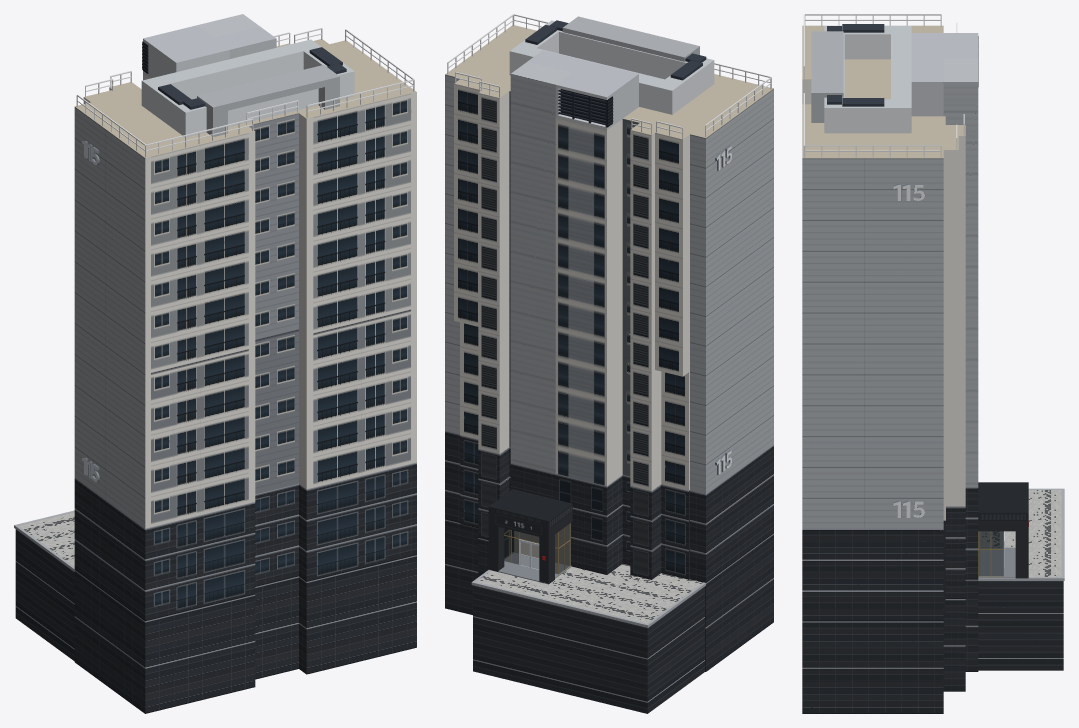
The model's file is place_금파힐115.glb.
The picture shows the model from 3 angles, left to right: view 1: azimuth 30°, elevation 25°; view 2: azimuth 150°, elevation 25°; view 3: azimuth 270°, elevation 25°; orthographic projection. The views are drawn at different scales.
Parts seen in each view (by area): view 1: KumhoParkHills_115, Basement_B1B2_0, Basement_B1B2_2, Walkway_1F_RetainingBase, Basement_B1B2_1, Walkway_1F_Deck; view 2: KumhoParkHills_115, Walkway_1F_RetainingBase, Walkway_1F_Deck, Basement_B1B2_0, Basement_B1B2_2; view 3: KumhoParkHills_115, Basement_B1B2_2, Walkway_1F_RetainingBase, Walkway_1F_Deck, Basement_B1B2_4, Basement_B1B2_6.
Boxes of the visible parts, x1=… form: KumhoParkHills_115: x1=74, y1=14, x2=416, y2=621; Basement_B1B2_0: x1=74, y1=570, x2=255, y2=713; Basement_B1B2_2: x1=299, y1=555, x2=416, y2=674; Walkway_1F_RetainingBase: x1=15, y1=529, x2=74, y2=660; Basement_B1B2_1: x1=255, y1=576, x2=298, y2=679; Walkway_1F_Deck: x1=15, y1=512, x2=74, y2=566; KumhoParkHills_115: x1=445, y1=14, x2=773, y2=584; Walkway_1F_RetainingBase: x1=473, y1=585, x2=704, y2=713; Walkway_1F_Deck: x1=471, y1=563, x2=702, y2=627; Basement_B1B2_0: x1=705, y1=533, x2=773, y2=671; Basement_B1B2_2: x1=445, y1=519, x2=478, y2=614; KumhoParkHills_115: x1=802, y1=14, x2=1028, y2=621; Basement_B1B2_2: x1=802, y1=621, x2=943, y2=713; Walkway_1F_RetainingBase: x1=978, y1=581, x2=1063, y2=670; Walkway_1F_Deck: x1=978, y1=490, x2=1064, y2=579; Basement_B1B2_4: x1=943, y1=599, x2=965, y2=691; Basement_B1B2_6: x1=965, y1=579, x2=978, y2=671.
Size of the model in its own units: 24.74 by 50.65 by 20.4.
90 materials, 44 textured.
